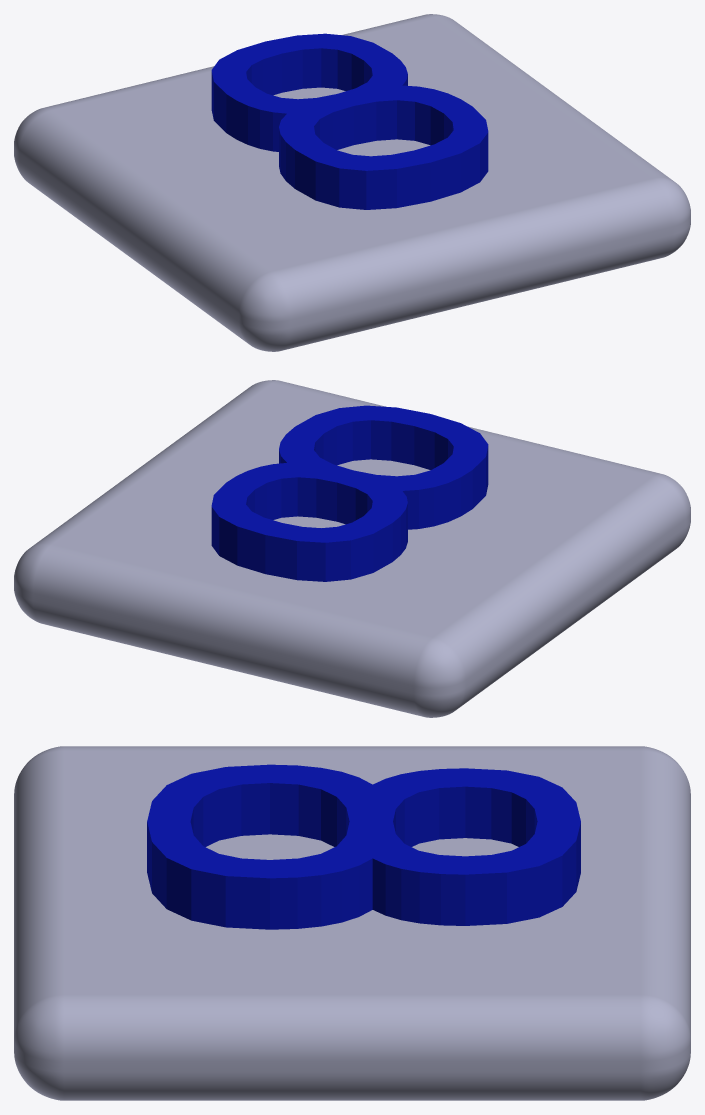
The model's file is button8.glb.
3 views of the same model, one above another, from view 1: azimuth 30°, elevation 25°; view 2: azimuth 150°, elevation 25°; view 3: azimuth 270°, elevation 25° (orthographic). The views are drawn at different scales.
Visible parts, largest first — view 1: Box, 3D Text - 8; view 2: Box, 3D Text - 8; view 3: Box, 3D Text - 8.
Part boxes in pixels (x1,y1,x2,y2): Box: (14, 14, 690, 351); 3D Text - 8: (211, 33, 488, 209); Box: (14, 380, 690, 717); 3D Text - 8: (211, 405, 488, 581); Box: (14, 746, 690, 1100); 3D Text - 8: (147, 764, 580, 929).
Size of the model in its own units: 0.1 by 0.0249 by 0.1.
